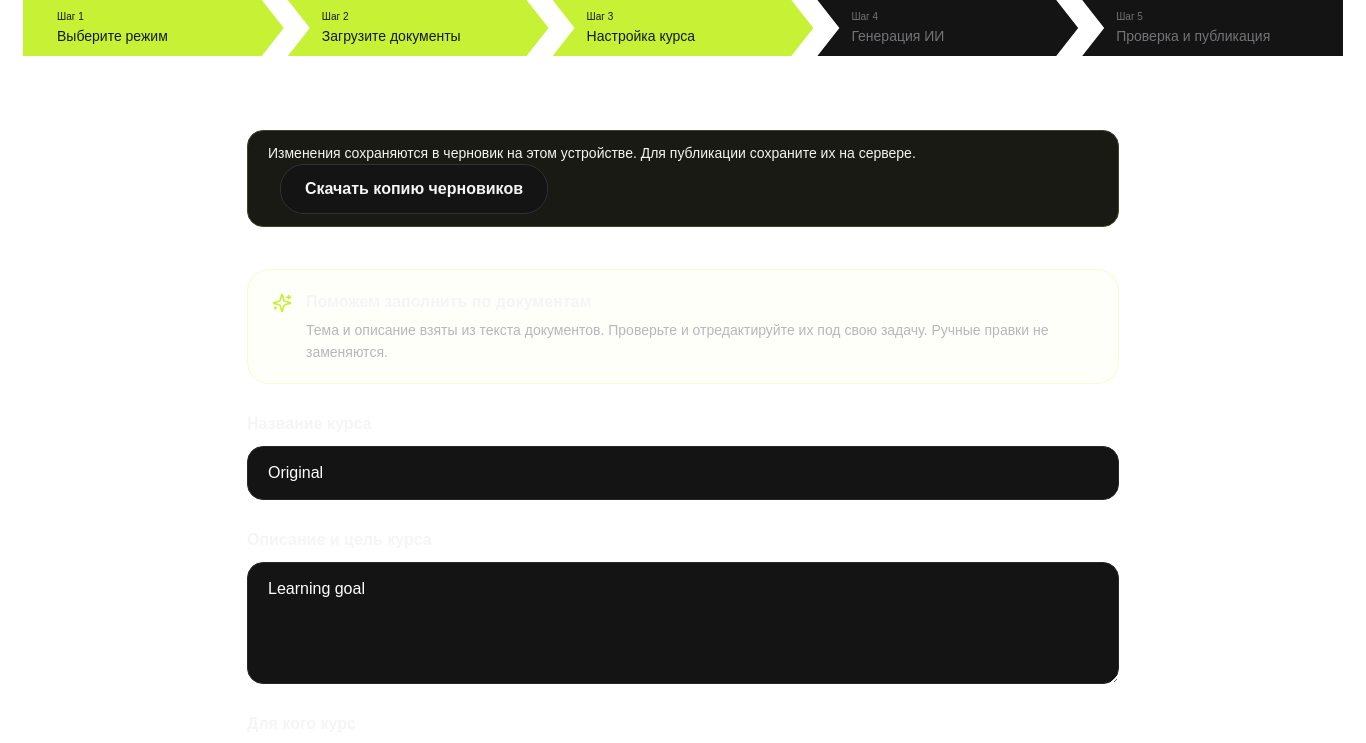
Scenario: locks editable settings while a save is pending so its receipt cannot overwrite newer typing
The image size is (1366, 743).
(page scrolled)
Replace the text in the field labelled "Название курса" with "Submitted title" at (683, 473), box [247,446,1119,500]
(page scrolled)
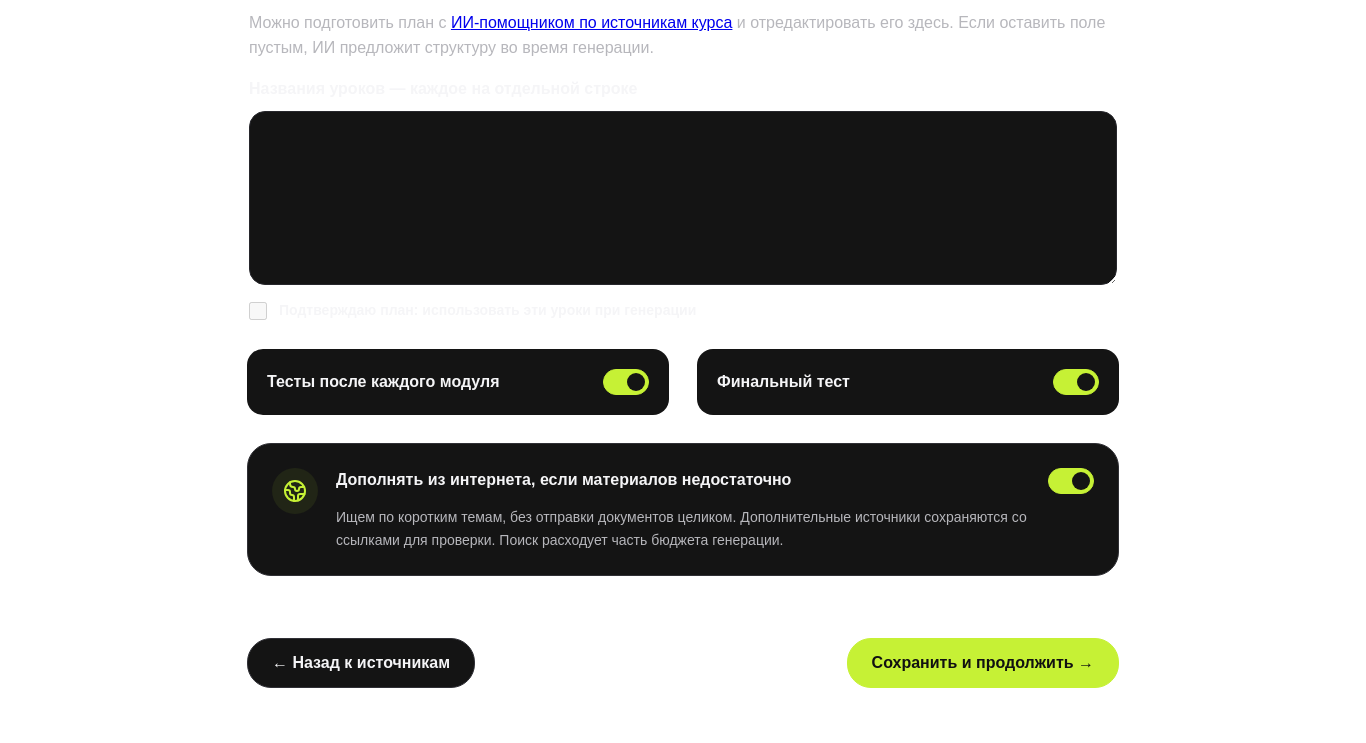
Click the button "Сохранить и продолжить →" at (983, 663), box [847,638,1119,688]
(page scrolled)
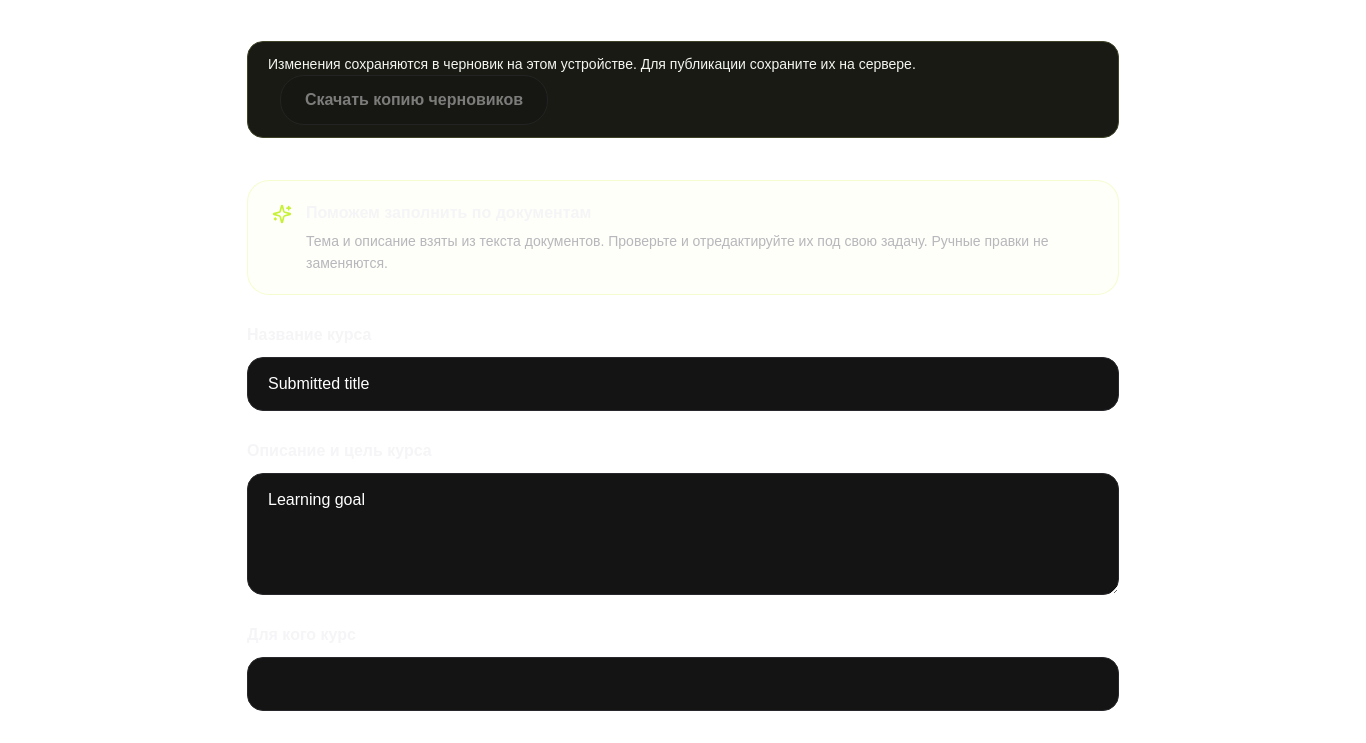
Expected: the text box labelled "Описание и цель курса" is disabled, [247,473,1119,595]
Replace the text in the field labelled "Название курса" with "Must not overwrite" at (683, 384), box [247,357,1119,411]
(page scrolled)
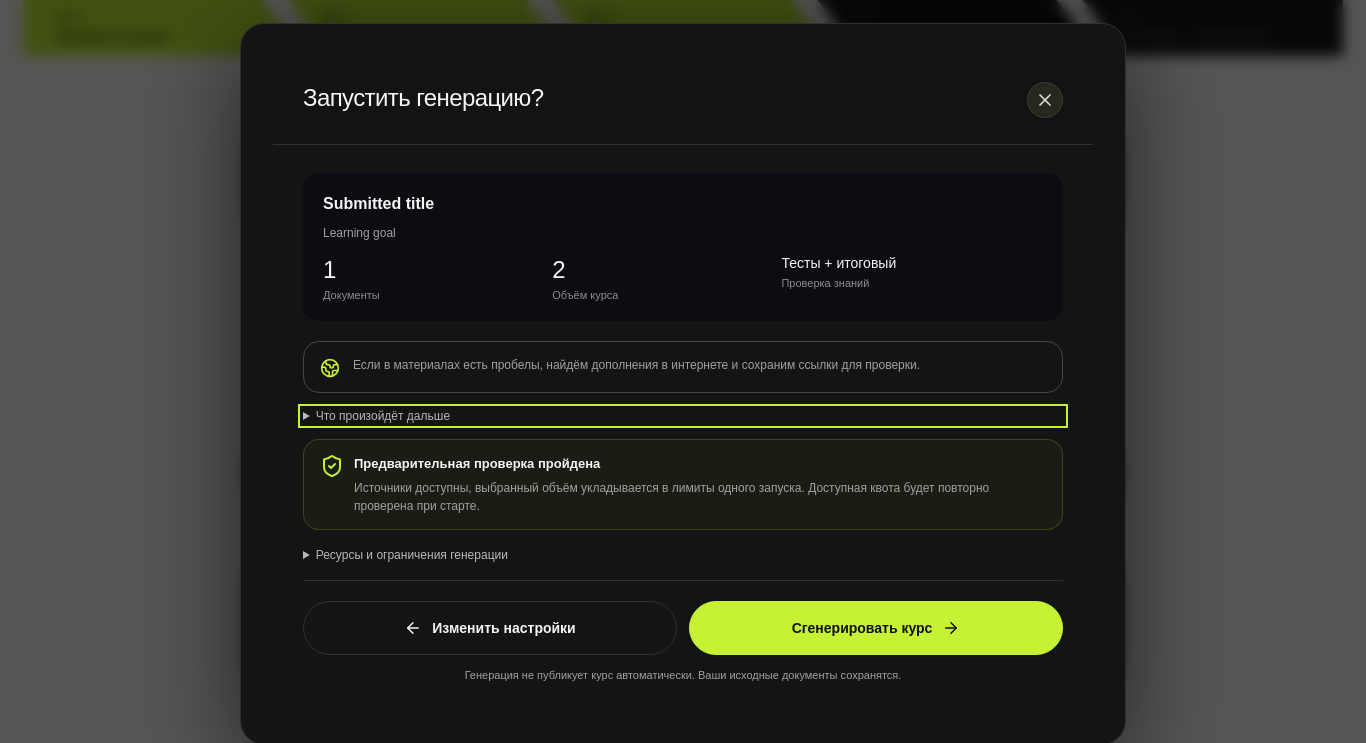
Expected: the button "Сгенерировать курс" is shown, [689,601,1063,655]
